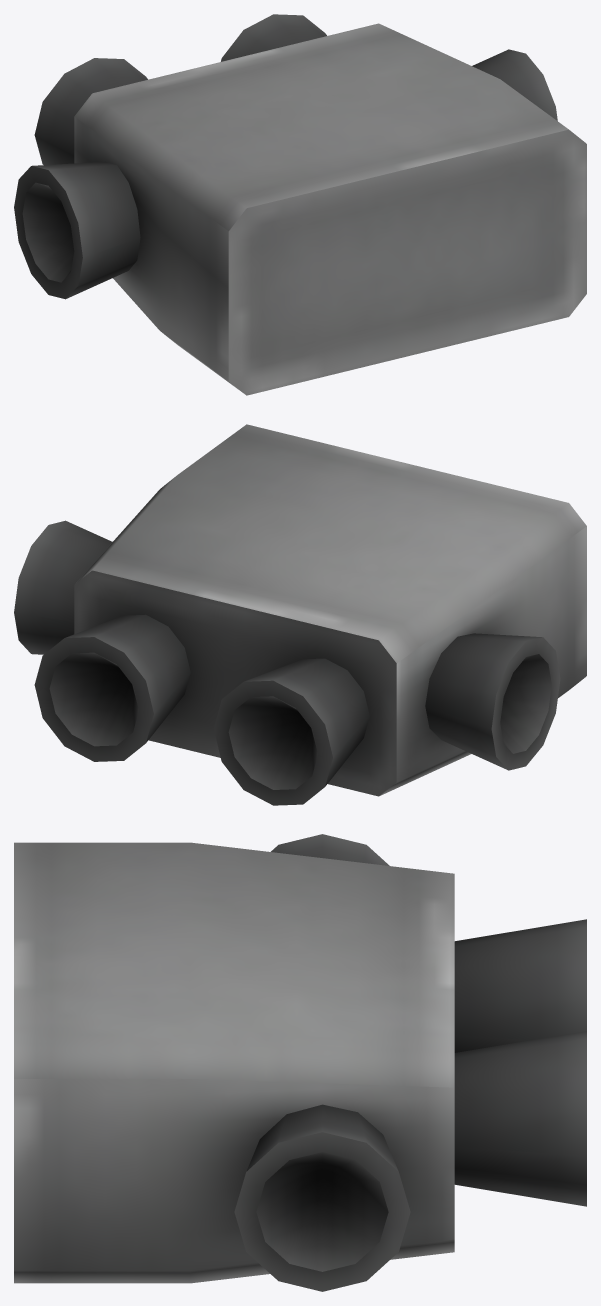
File: octans_moe_srf_2_extended.obj
The picture shows the model from 3 angles, top to bottom: view 1: azimuth 30°, elevation 25°; view 2: azimuth 150°, elevation 25°; view 3: azimuth 270°, elevation 25°; orthographic projection. The views are drawn at different scales.
Visible parts, largest first — view 1: mesh; view 2: mesh; view 3: mesh.
Part boxes in pixels (<box>): mesh: <box>14,14,586,395</box>; mesh: <box>14,424,586,805</box>; mesh: <box>14,834,586,1291</box>.
Bounding box in the file's own units: 0.2 × 0.075 × 0.1625.
1 material, 1 textured.
